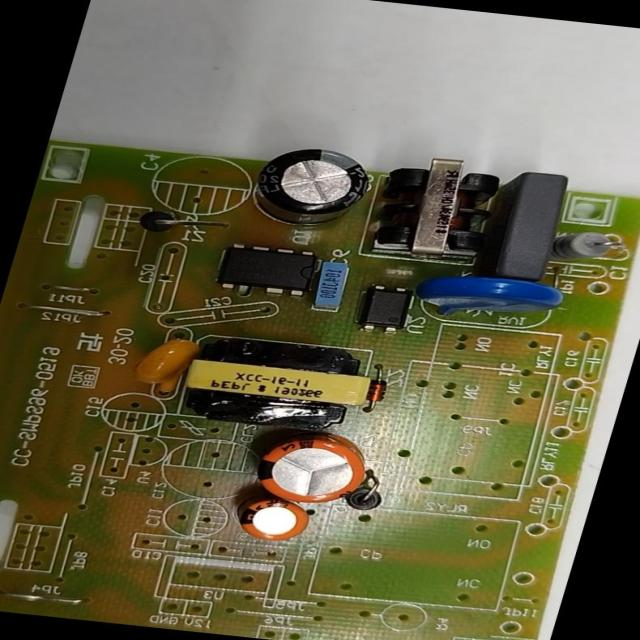Cap1: (250, 434, 371, 506)
Cap2: (234, 500, 312, 544)
Cap3: (250, 144, 373, 230)
MOSFET: (215, 242, 320, 298)
Mov: (422, 270, 568, 323)
Resistor: (555, 229, 621, 265)
Transformer: (180, 332, 380, 432), (374, 154, 503, 256)
